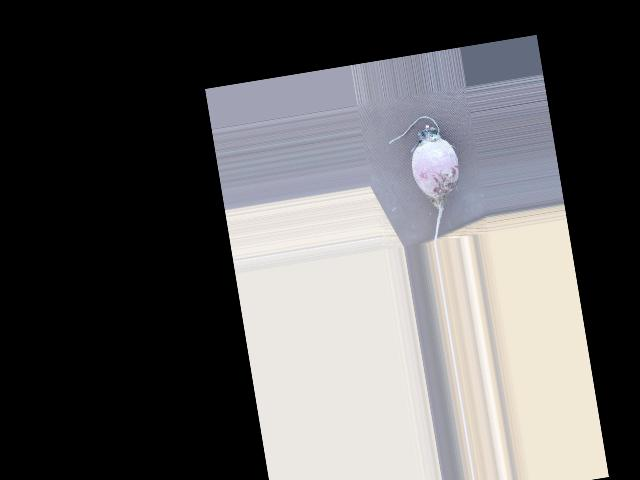beet: (385, 112, 471, 247)
